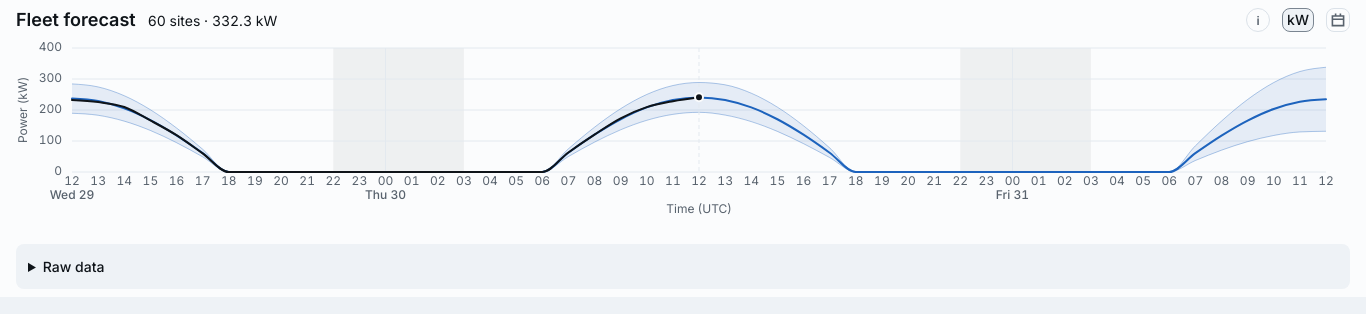
Scenario: FleetPanel against a source with the full fleet-level capabilities › offers the aggregation range and qualifies both simulations, against the demo source
Expected: the button named "Aggregation range" is shown, [1326,8,1350,32]
Click the button named "About this chart" at (1258, 20), box [1246,8,1270,32]
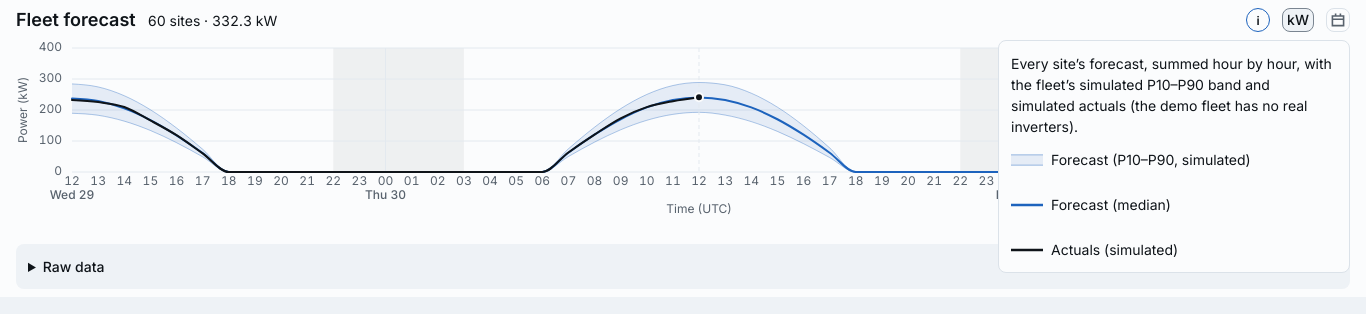
Expected: the text with class "fleet-chart-stats" reads "60 sites · 332.3 kW", [148,12,277,28]
Now the text "summed hour by hour" shows "simulated actuals", box [1011,55,1332,135]
Now the text "summed hour by hour" shows "simulated P10–P90 band", box [1011,55,1332,135]
